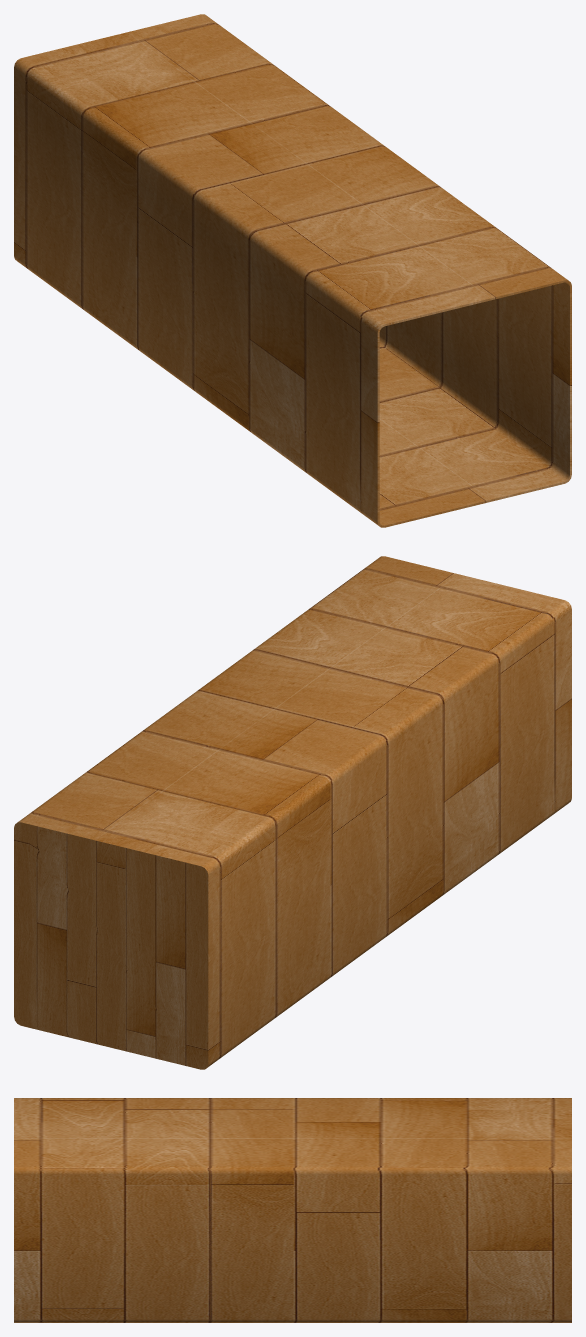
File: Tunnel.obj
3 views of the same model, one above another, from view 1: azimuth 30°, elevation 25°; view 2: azimuth 150°, elevation 25°; view 3: azimuth 270°, elevation 25° (orthographic). The views are drawn at different scales.
Visible parts, largest first — view 1: Cube.001_Cube; view 2: Cube.001_Cube; view 3: Cube.001_Cube.
Part boxes in pixels (x1,y1,x2,y2): Cube.001_Cube: [14, 14, 571, 527]; Cube.001_Cube: [14, 556, 571, 1069]; Cube.001_Cube: [14, 1098, 571, 1322].
Bounding box in the file's own units: 2 × 2 × 6.48.
Materials: 1 (1 with a texture image).
